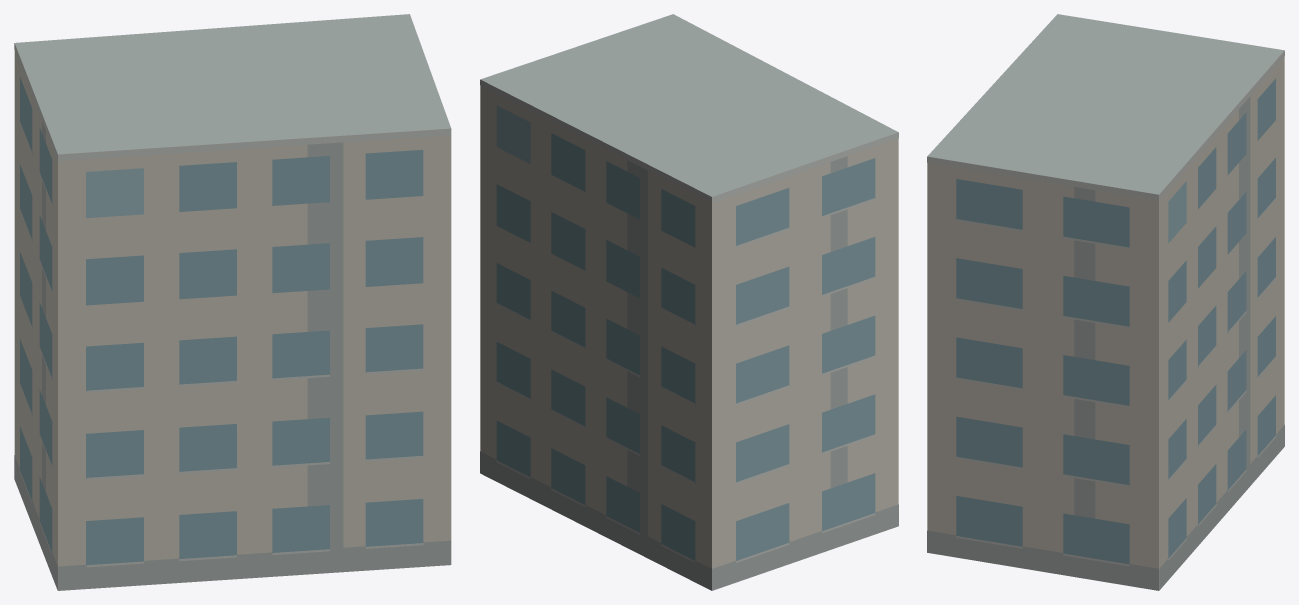
Rendered from survey-upis-32888552.glb.
3 renders of one model, left to right at view 1: azimuth 30°, elevation 25°; view 2: azimuth 150°, elevation 25°; view 3: azimuth 270°, elevation 25°, orthographic. The views are drawn at different scales.
Parts seen in each view (by area): view 1: survey-upis-32888552.tmp; view 2: survey-upis-32888552.tmp; view 3: survey-upis-32888552.tmp.
Boxes of the visible parts, x1,y1,x2,y2 form: survey-upis-32888552.tmp: (14, 14, 451, 590); survey-upis-32888552.tmp: (480, 14, 898, 590); survey-upis-32888552.tmp: (927, 14, 1284, 590).
Bounding box in the file's own units: 15.56 × 15.9 × 13.02.
